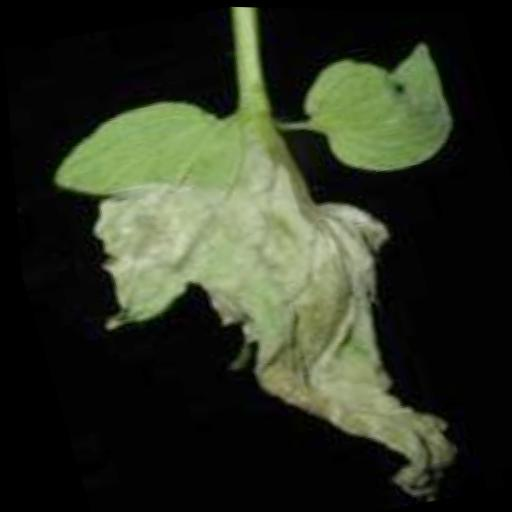Late Blight: (14, 14, 512, 512)
